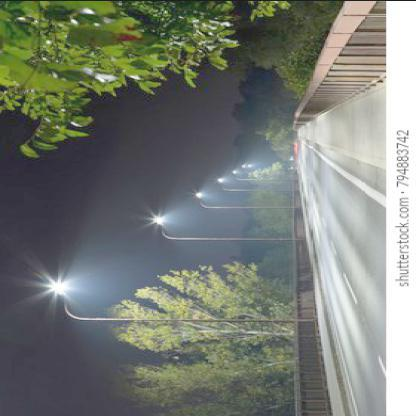on: (0, 130, 385, 416)
